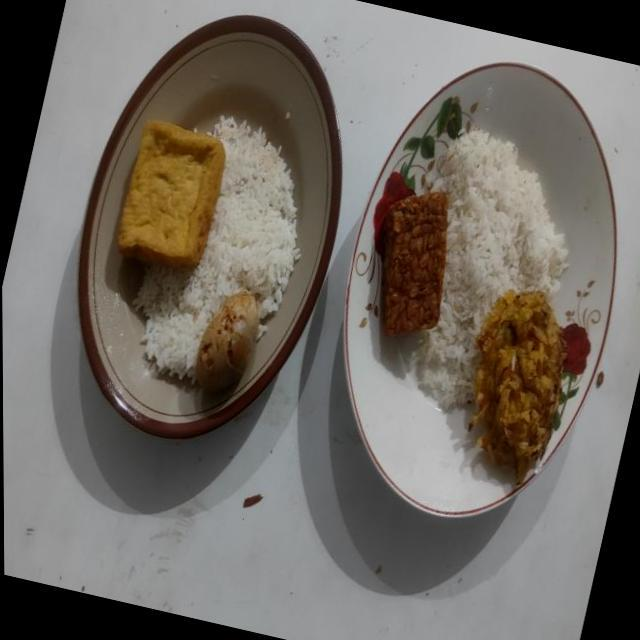nasi_putih: (132, 116, 300, 383), (410, 130, 567, 409)
tahu_goreng: (117, 120, 225, 265)
tempe_goreng: (382, 192, 448, 335)
